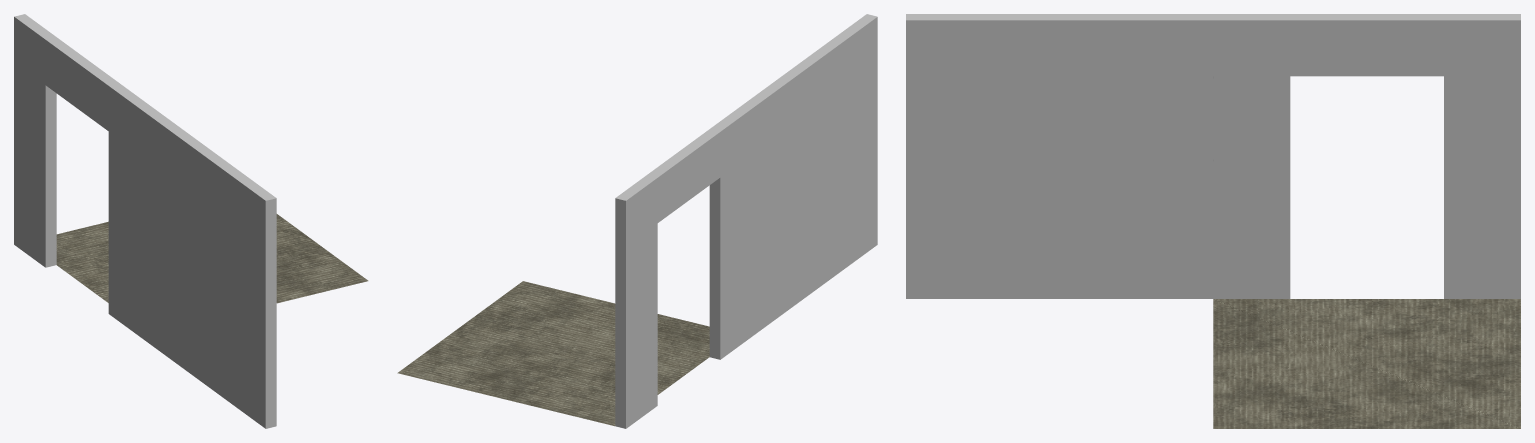
File: assets1.fbx
The picture shows the model from 3 angles, left to right: view 1: azimuth 30°, elevation 25°; view 2: azimuth 150°, elevation 25°; view 3: azimuth 270°, elevation 25°; orthographic projection. The views are drawn at different scales.
Parts seen in each view (by area): view 1: Plane.002, Plane.001, Plane; view 2: Plane.002, Plane.001, Plane; view 3: Plane.002, Plane.001, Plane.
Boxes of the visible parts, <box> form: Plane.002: <box>140,106,276,428</box>; Plane.001: <box>14,14,150,336</box>; Plane: <box>56,214,368,303</box>; Plane.002: <box>741,14,877,336</box>; Plane.001: <box>615,106,751,428</box>; Plane: <box>397,281,709,426</box>; Plane.002: <box>906,14,1213,298</box>; Plane.001: <box>1213,14,1520,298</box>; Plane: <box>1213,299,1520,428</box>.
Bounding box in the file's own units: 210 × 200 × 400.
